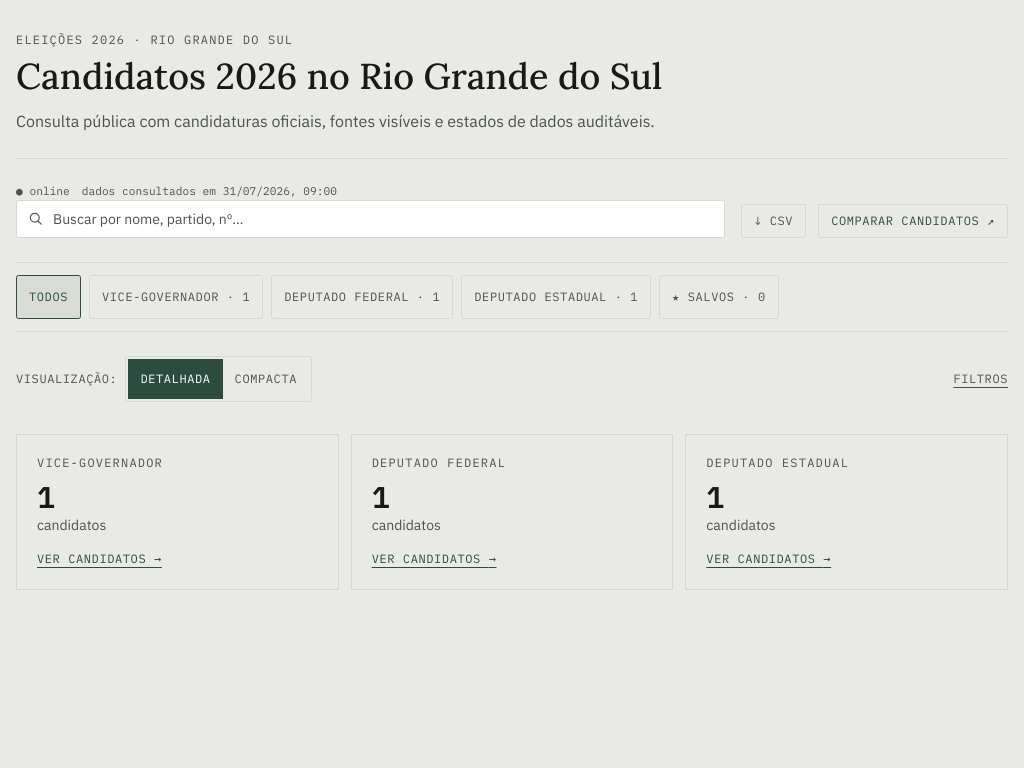
Test: HomePage estados honestos H5.2 › renderiza Todos como resumo de cargos e abre um cargo sem despejar a lista inteira
Expected: the element named "resumo por cargo" is shown, [16,434,1008,590]
Click the button "Deputado Estadual · 1": (556, 297) [461,275,651,319]
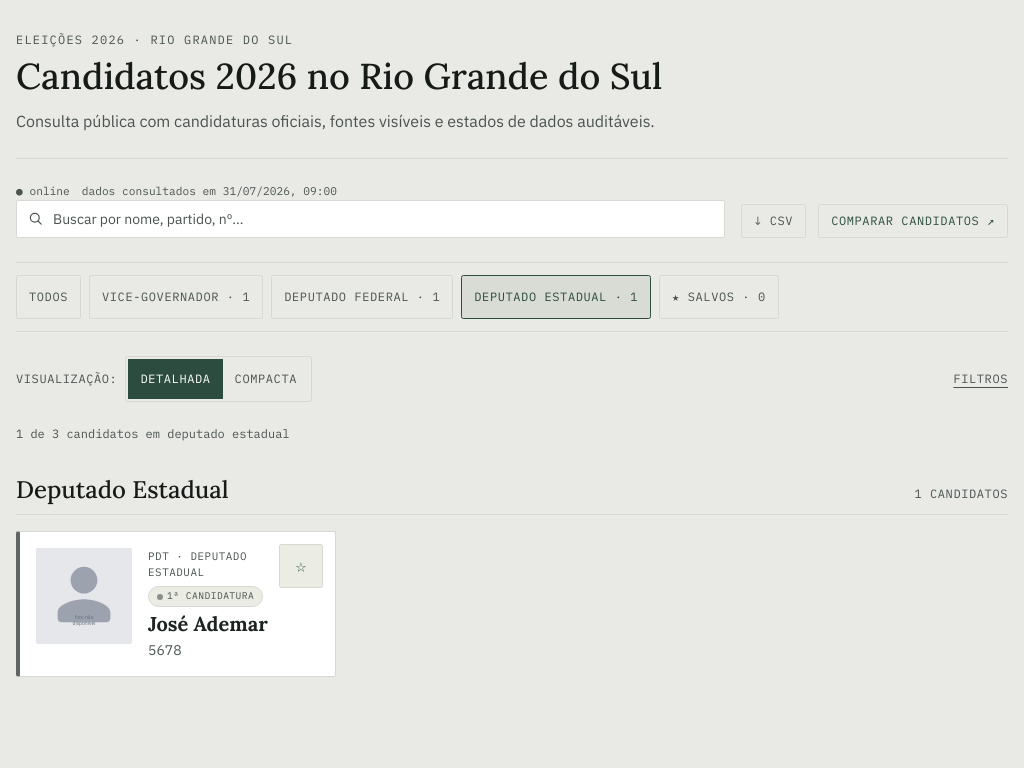
Expected: the heading "José Ademar" is shown, [148,611,287,636]
